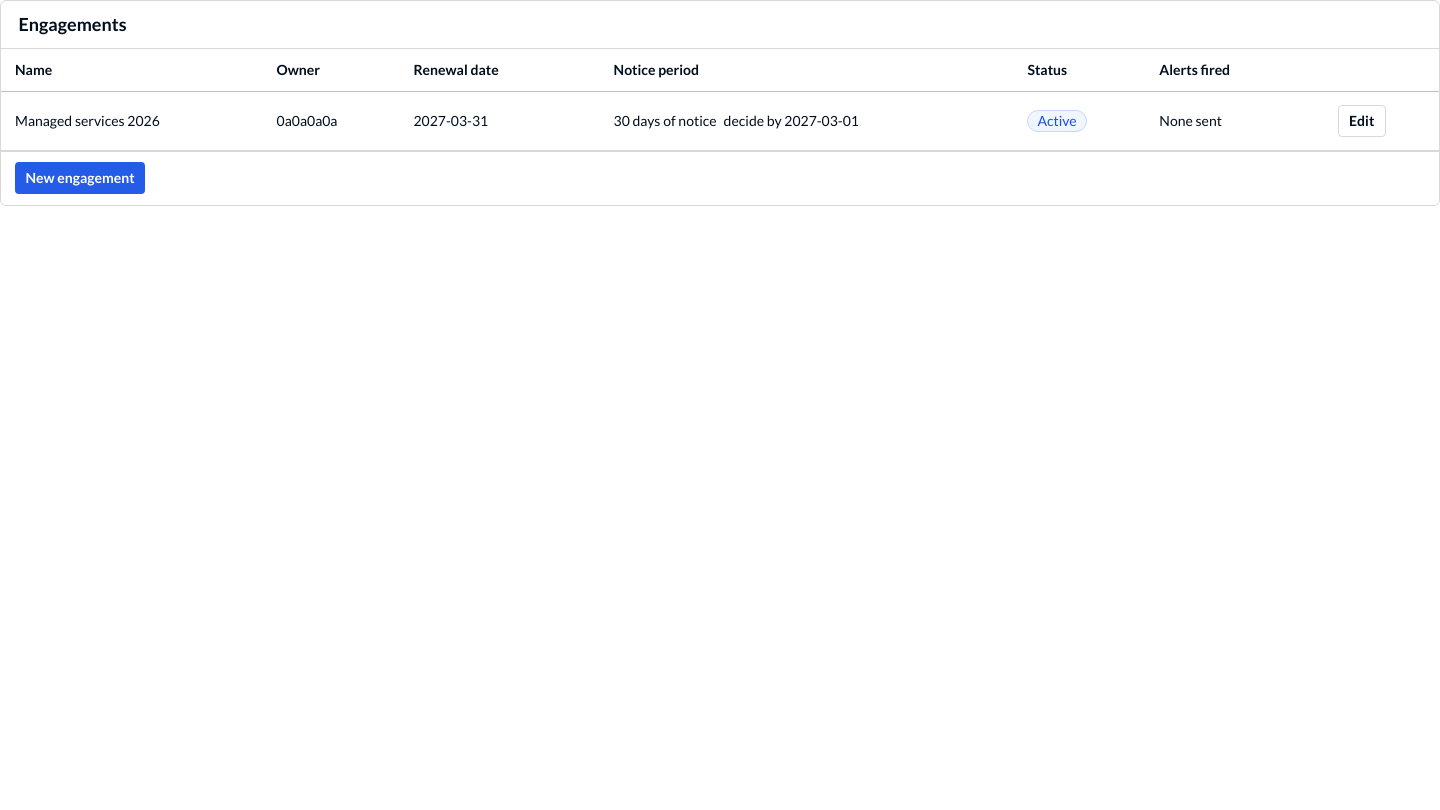
Test case: EngagementsPanel › edits with the version, and sends the status only when it was changed by hand
This screenshot has width=1440, height=810.
Click the button with aria-label "Edit Managed services 2026" at (1362, 121), box x1=1338 y1=105 x2=1386 y2=137
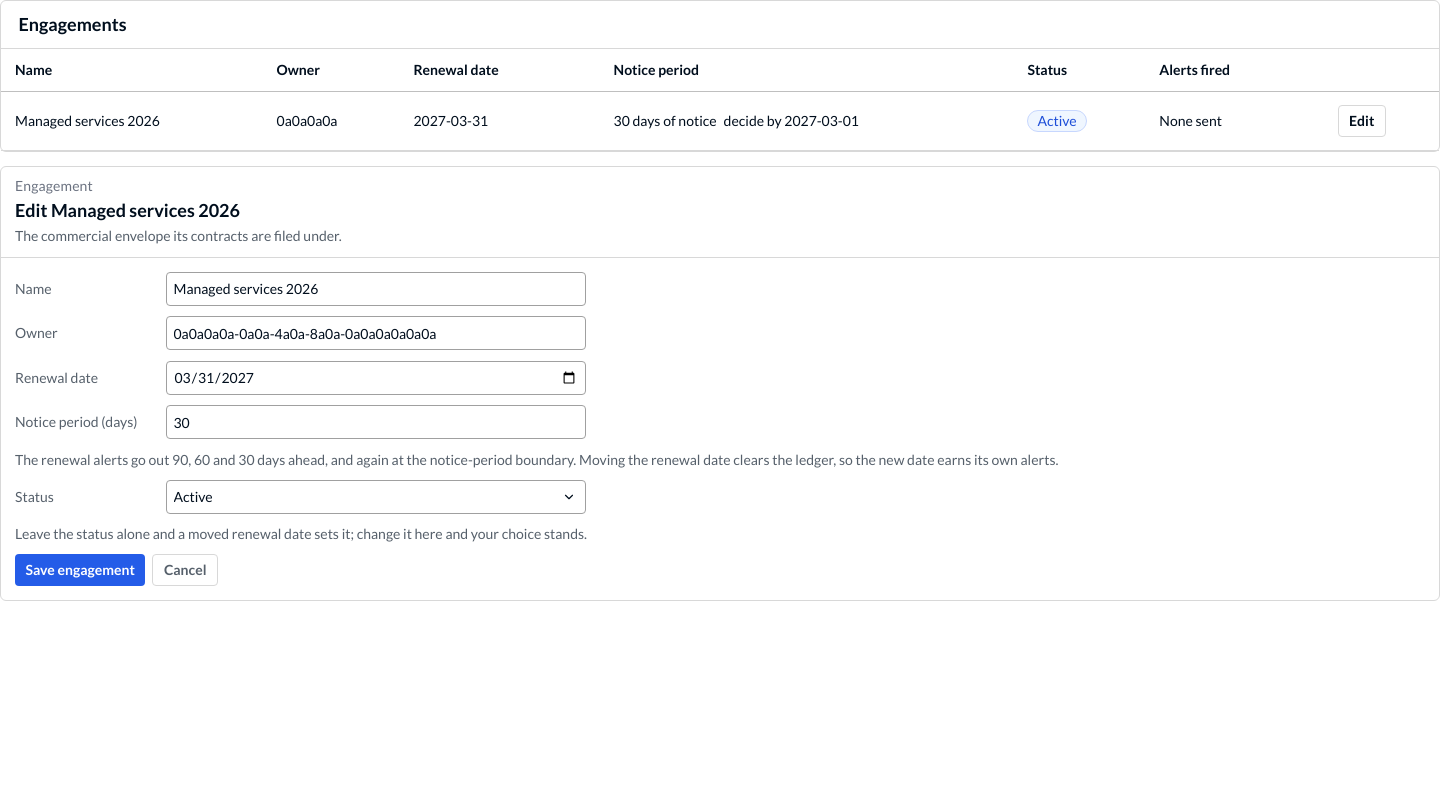
Type "2028-01-31" into the date field labelled "Renewal date" at (376, 378), box x1=166 y1=361 x2=586 y2=395
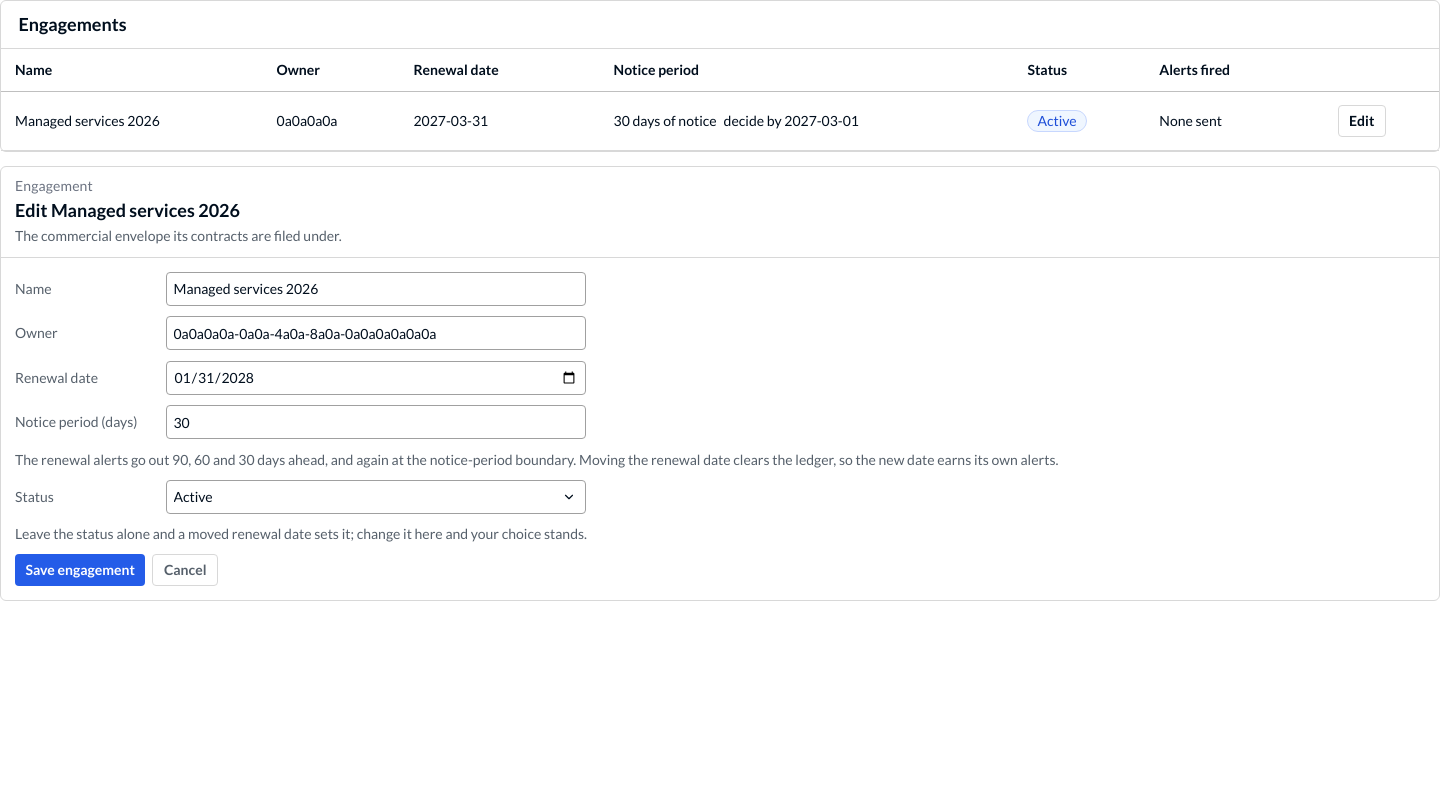
Click the button "Save engagement" at (80, 570), box x1=15 y1=554 x2=145 y2=586
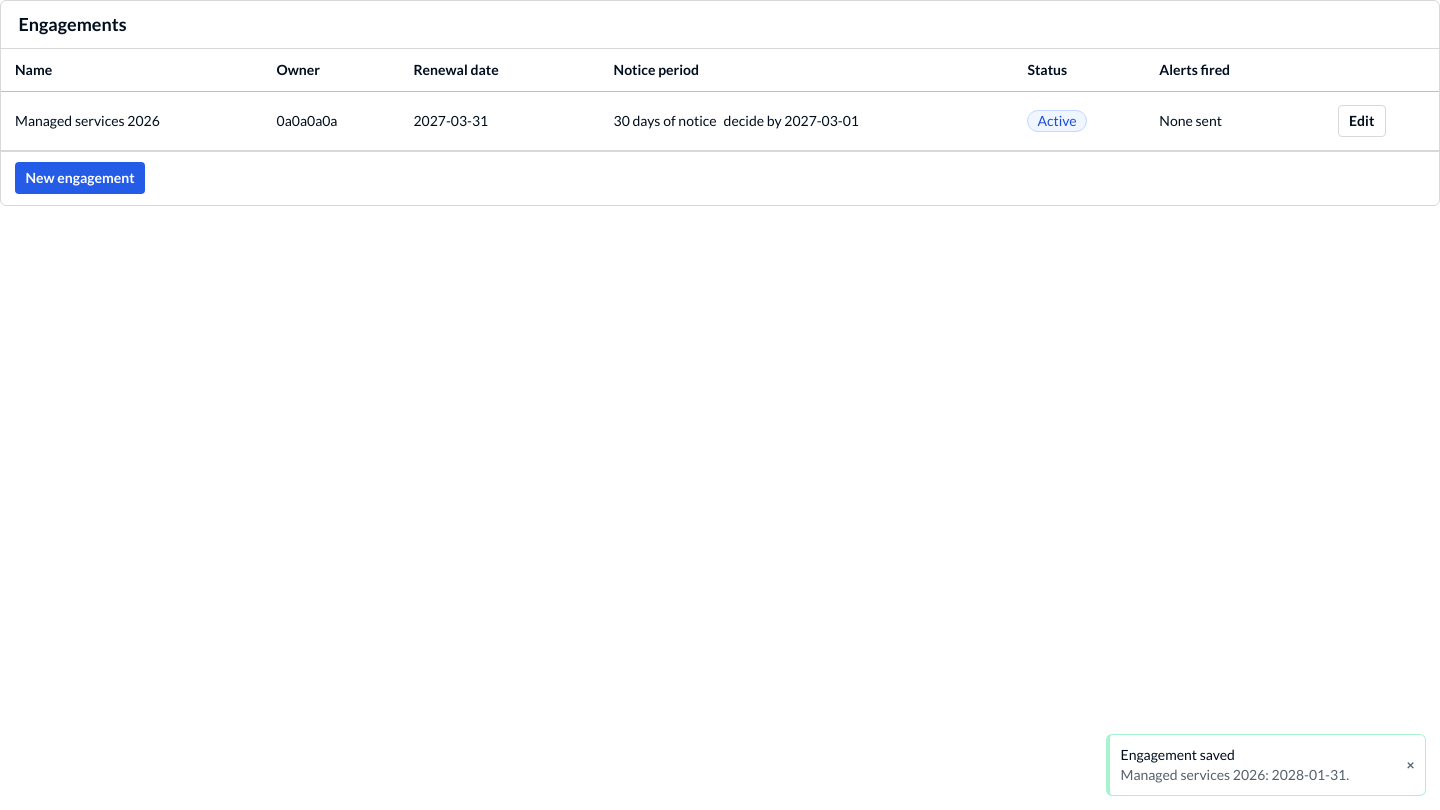
Expected: the text "Engagement saved" is shown, x1=1120 y1=746 x2=1235 y2=763
